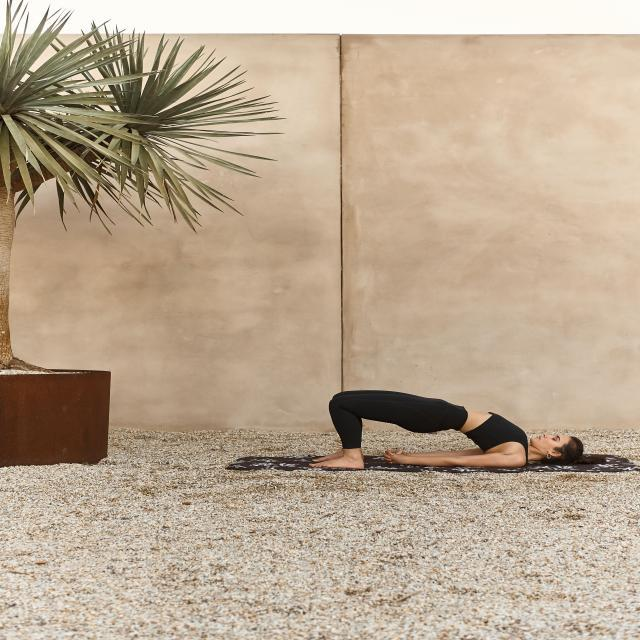yoga-pose bridge: (274, 364, 638, 489)
